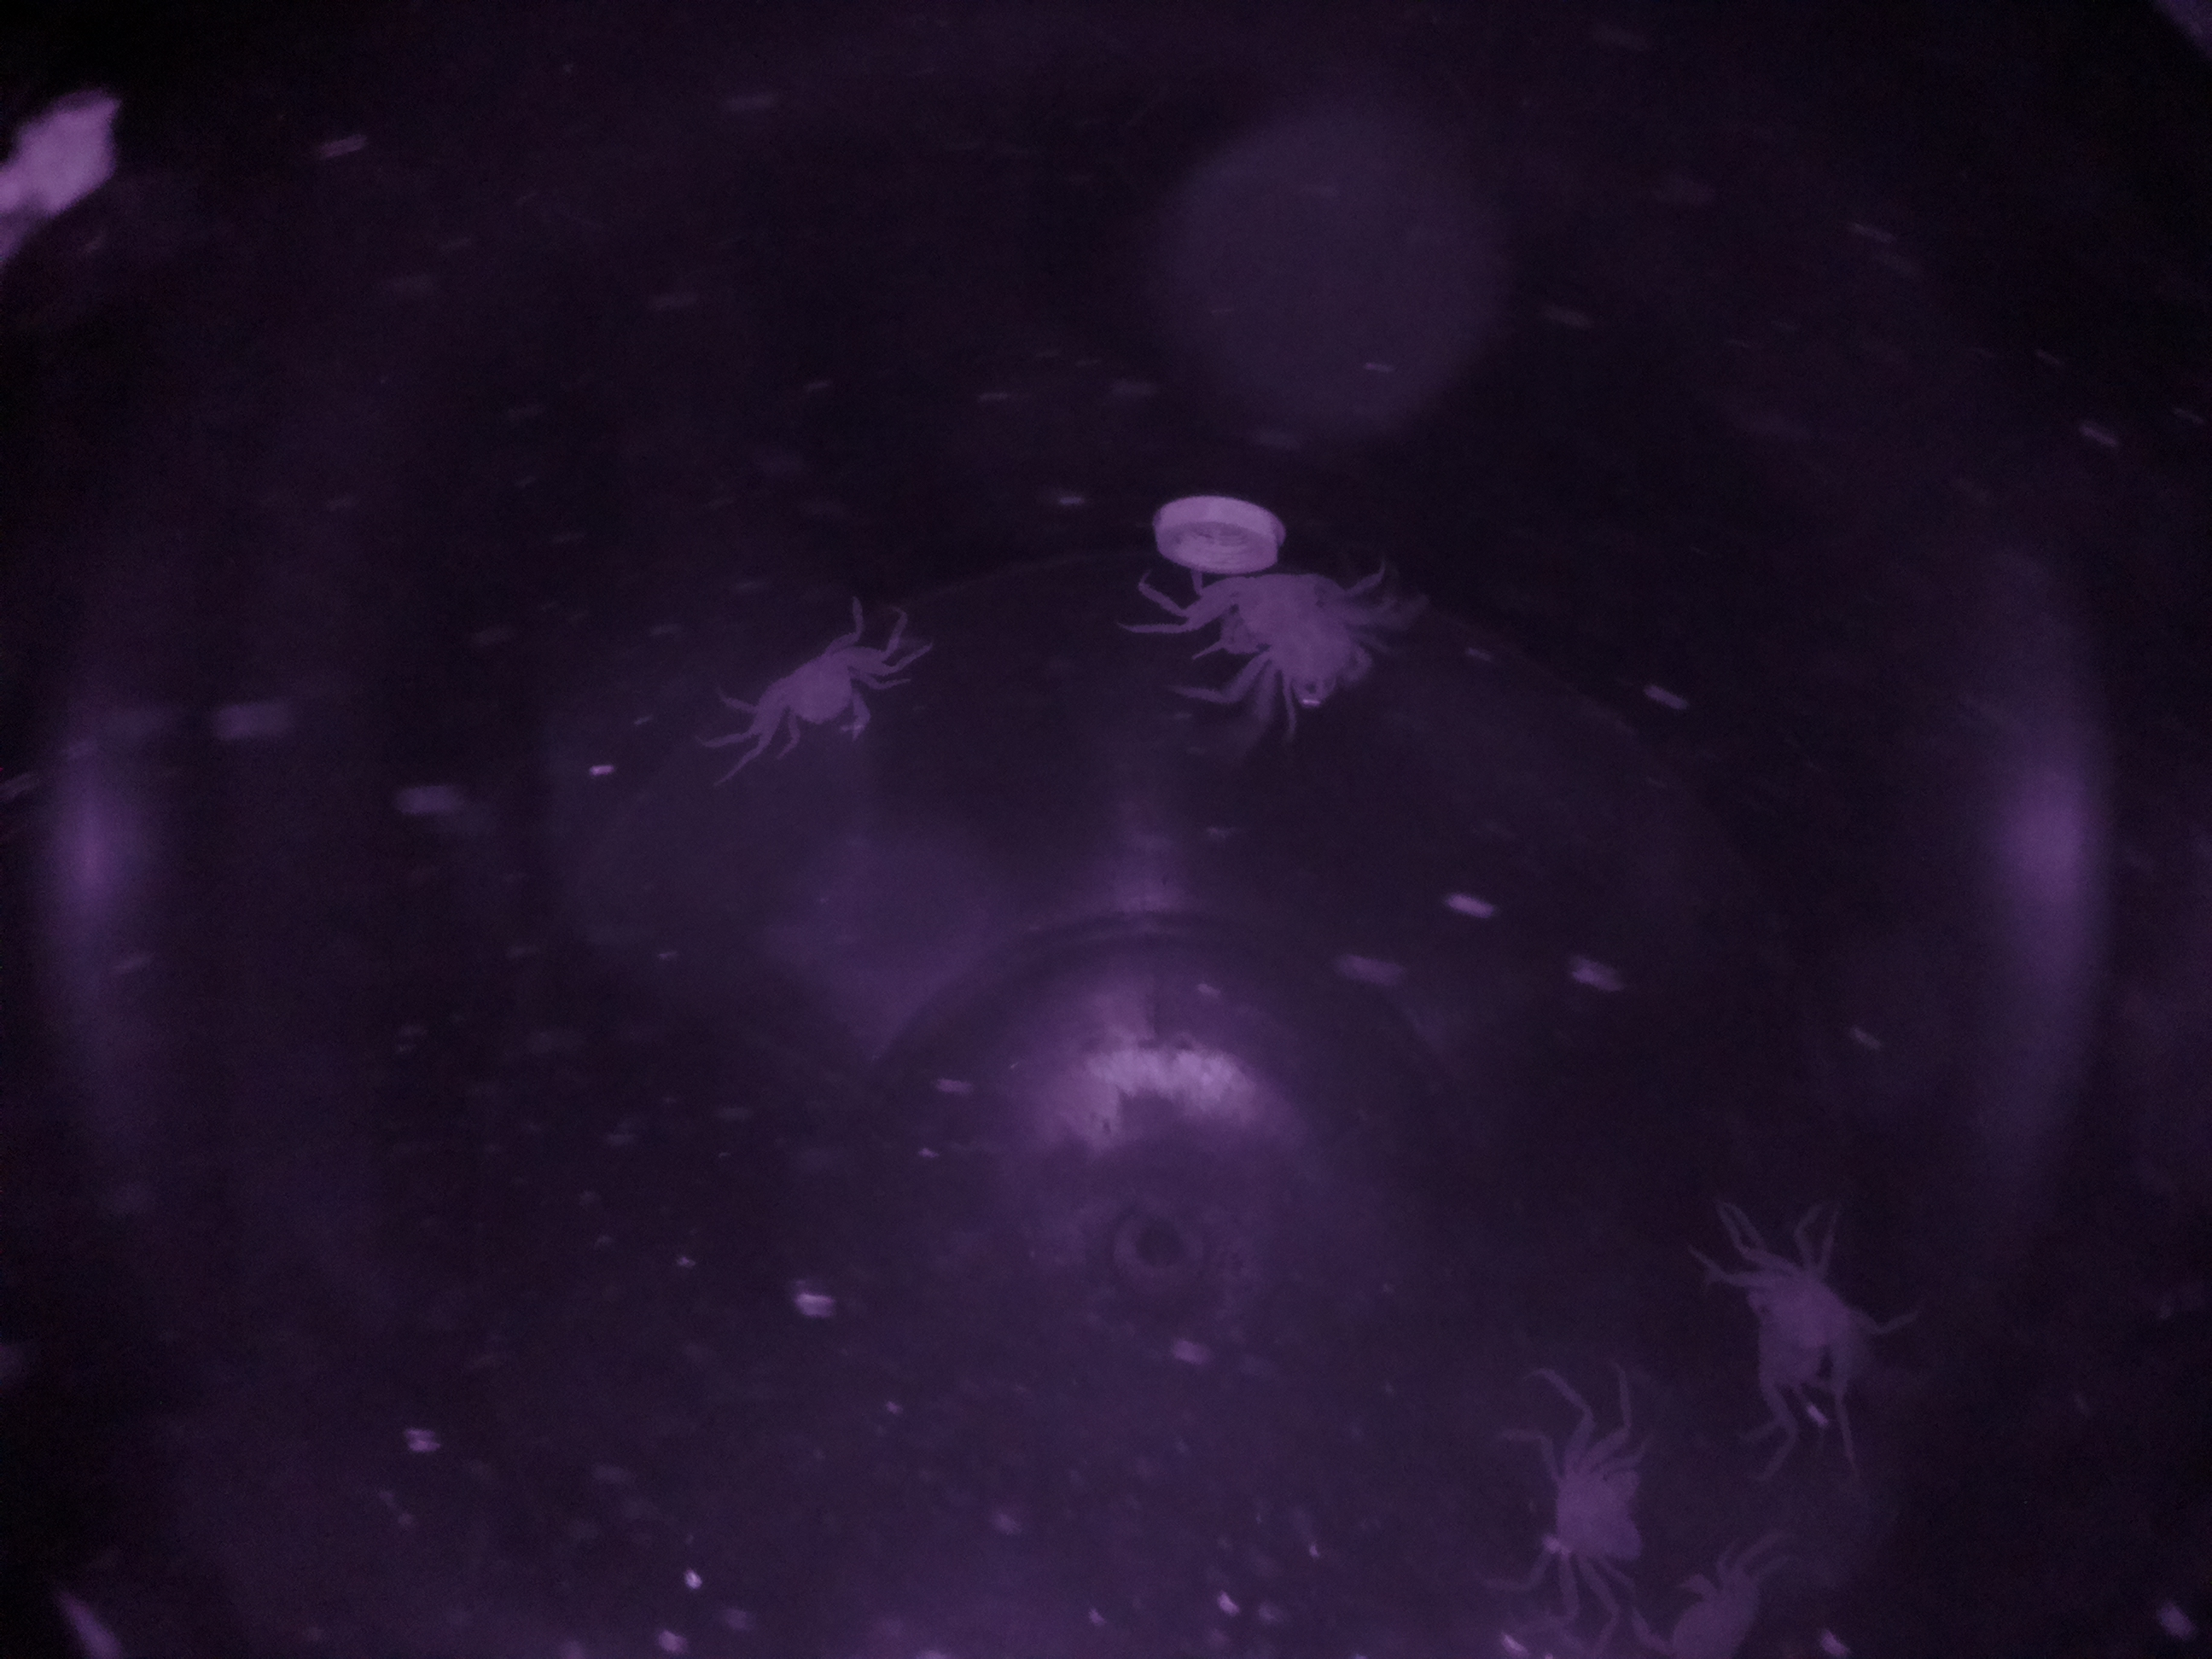Crab: (1533, 1405, 1662, 1617), (735, 612, 906, 758)
